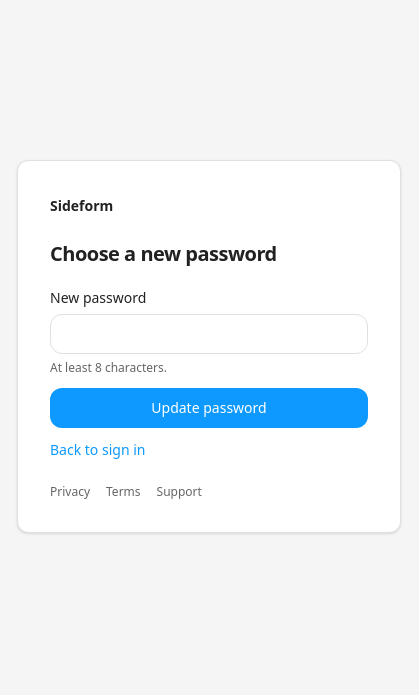
Test: <SignInPage /> flows › completes a reset from ?token= and removes the token from the URL
Type "hunter22" into the password field labelled "New password" at [209, 334], box [50, 314, 368, 354]
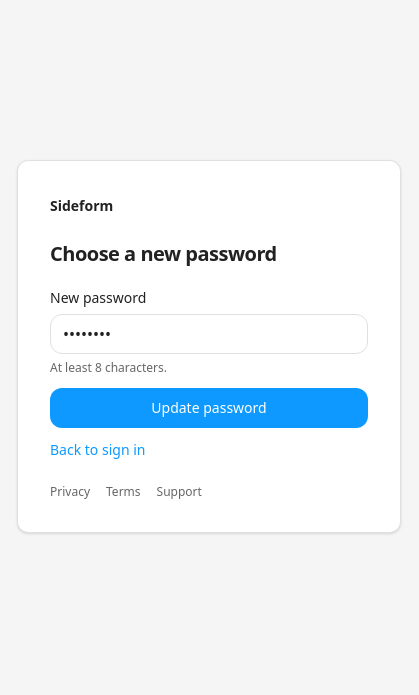
Submit the form from the button "Update password", box [50, 388, 368, 428]
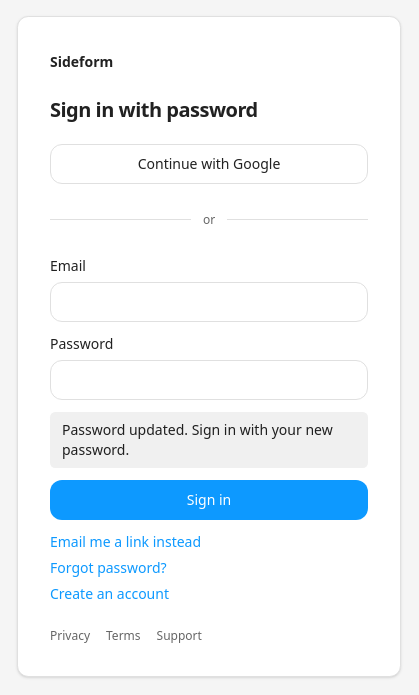
Expected: the text "Password updated. Sign in with your new password." is shown, [50, 412, 368, 468]
